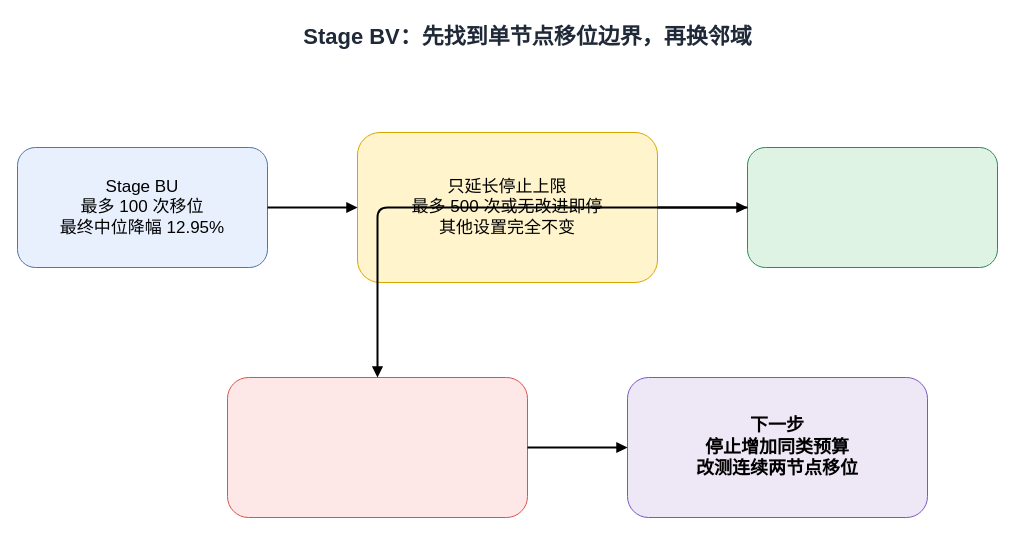
Image size: 1015x535. Some labels were removed from this diagram. The shapes that lost their labels are listed below. From the top down, each one's centre as x and y in pixels, then its label:
At [872,207]: "自然停止 83～255 次 最终中位降幅 13.06%".
At [377,447]: "顺序门槛失败 相对 BU 中位只再降 0.13% 低于预设 0.25%".
